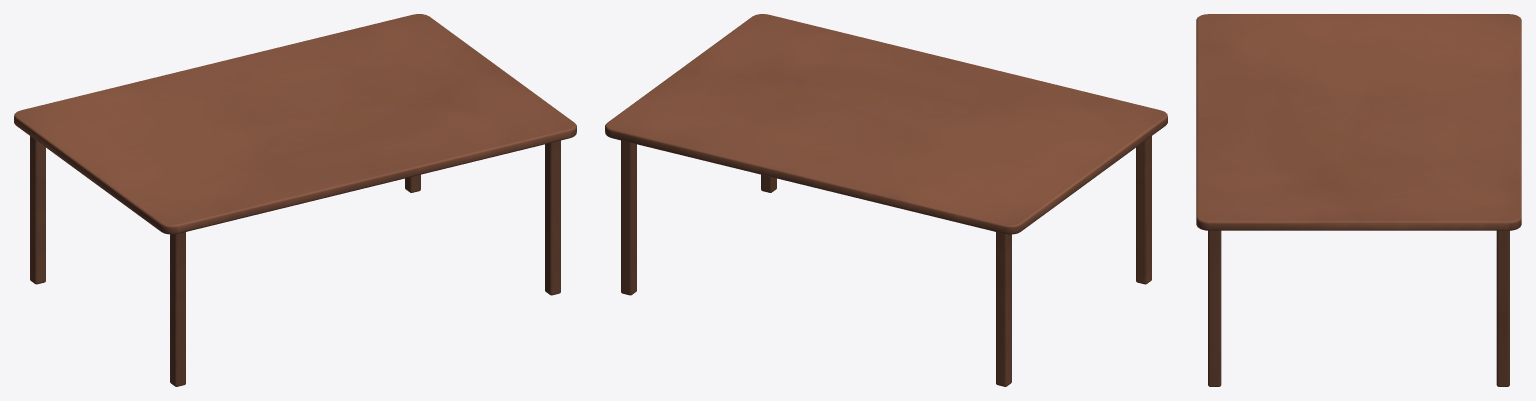
The model's file is diningtable.fbx.
The picture shows the model from 3 angles, left to right: view 1: azimuth 30°, elevation 25°; view 2: azimuth 150°, elevation 25°; view 3: azimuth 270°, elevation 25°; orthographic projection. The views are drawn at different scales.
Visible parts, largest first — view 1: Cube.007; view 2: Cube.007; view 3: Cube.007.
Part boxes in pixels (bbox=[...]): Cube.007: bbox=[14, 14, 576, 386]; Cube.007: bbox=[605, 14, 1167, 386]; Cube.007: bbox=[1196, 14, 1521, 386].
Bounding box in the file's own units: 200 × 77.3 × 132.
Materials: 1 (1 with a texture image).
